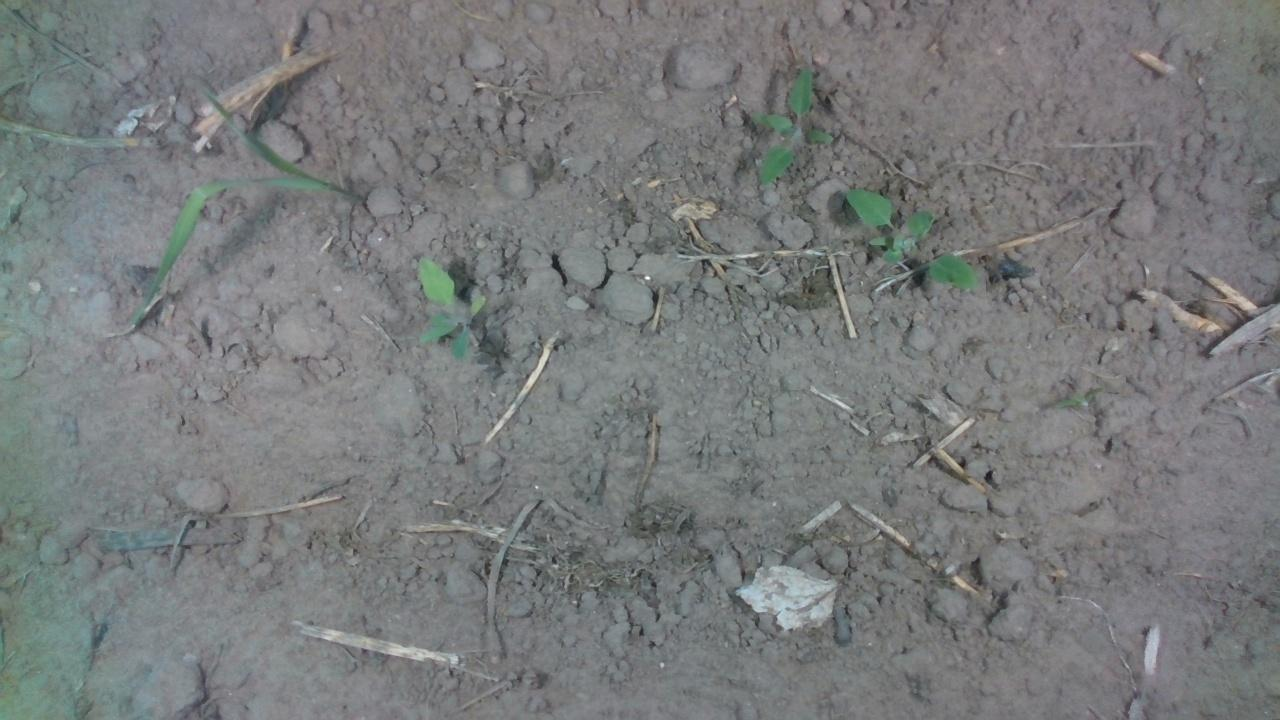weed: (842, 183, 977, 291), (754, 63, 835, 184), (413, 254, 489, 356), (1050, 384, 1105, 409)
